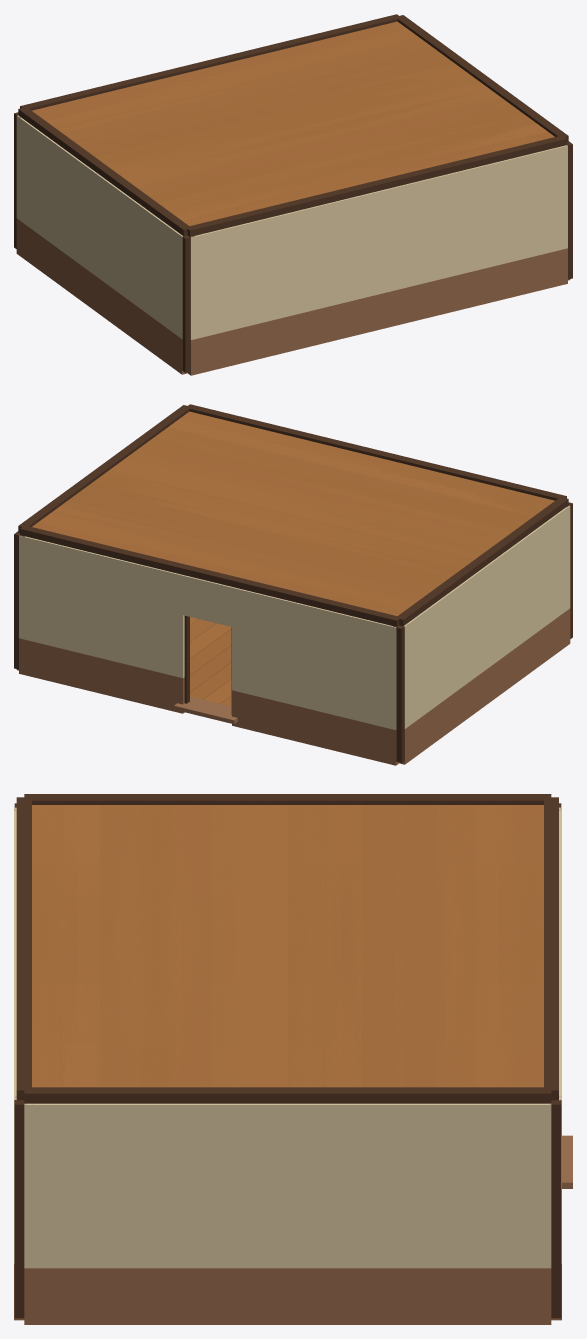
File: interior_farmhouse_shell.glb
The picture shows the model from 3 angles, top to bottom: view 1: azimuth 30°, elevation 25°; view 2: azimuth 150°, elevation 25°; view 3: azimuth 270°, elevation 25°; orthographic projection. The views are drawn at different scales.
Parts seen in each view (by area): view 1: interior_farmhouse_shell_LOD0_shell, interior_farmhouse_shell_LOD1_shell, interior_farmhouse_shell_LOD2_shell; view 2: interior_farmhouse_shell_LOD0_shell, interior_farmhouse_shell_LOD1_shell, interior_farmhouse_shell_LOD2_shell; view 3: interior_farmhouse_shell_LOD0_shell, interior_farmhouse_shell_LOD1_shell, interior_farmhouse_shell_LOD2_shell.
Part boxes in pixels (x1,y1,x2,y2): interior_farmhouse_shell_LOD0_shell: (15,15,571,374); interior_farmhouse_shell_LOD1_shell: (14,14,572,375); interior_farmhouse_shell_LOD2_shell: (78,23,551,225); interior_farmhouse_shell_LOD0_shell: (15,404,572,764); interior_farmhouse_shell_LOD1_shell: (14,404,572,765); interior_farmhouse_shell_LOD2_shell: (38,413,554,615); interior_farmhouse_shell_LOD0_shell: (14,794,572,1324); interior_farmhouse_shell_LOD1_shell: (14,794,572,1324); interior_farmhouse_shell_LOD2_shell: (32,805,543,1087).
Size of the model in its own units: 10.3 by 3.66 by 8.06.
